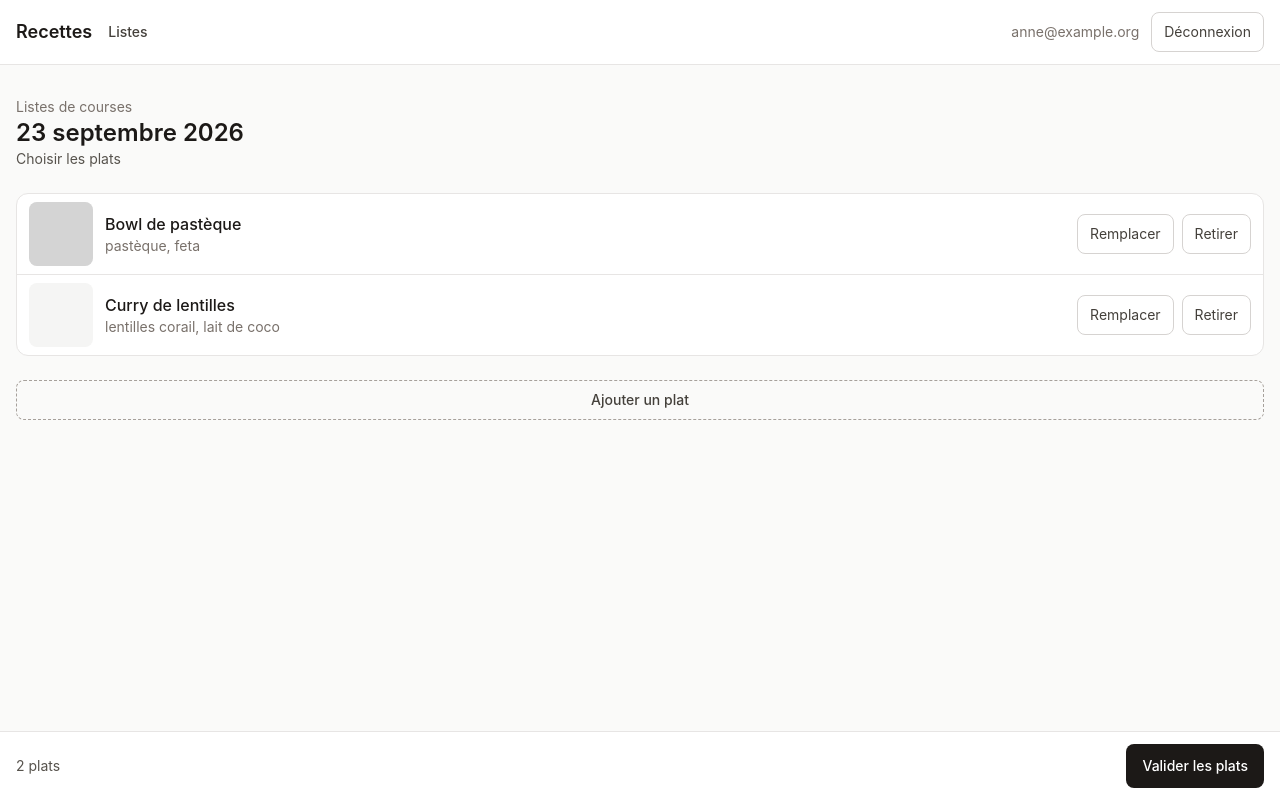
Test: préparation d'une liste › remplace un plat par une proposition choisie dans le drawer
The image size is (1280, 800).
Expected: the text "Curry de lentilles" is shown, [105,295,235,315]
Click the button with aria-label "Remplacer Curry de lentilles". click: (1125, 315)
box: [1077,295,1174,335]
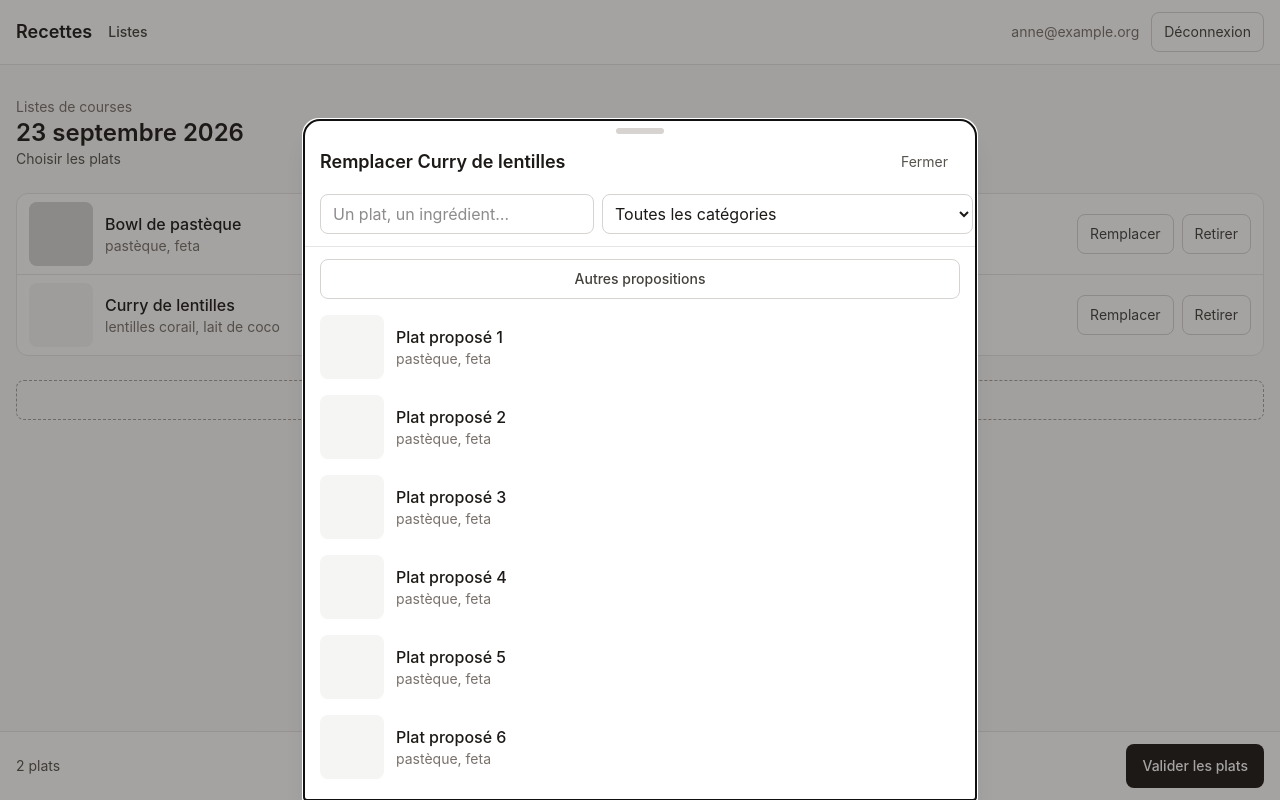
Now the heading "Remplacer Curry de lentilles" is shown, box [320,148,565,176]
Click the button "Plat proposé 1 pastèque, feta". click: (352, 347)
box: [320,307,960,387]
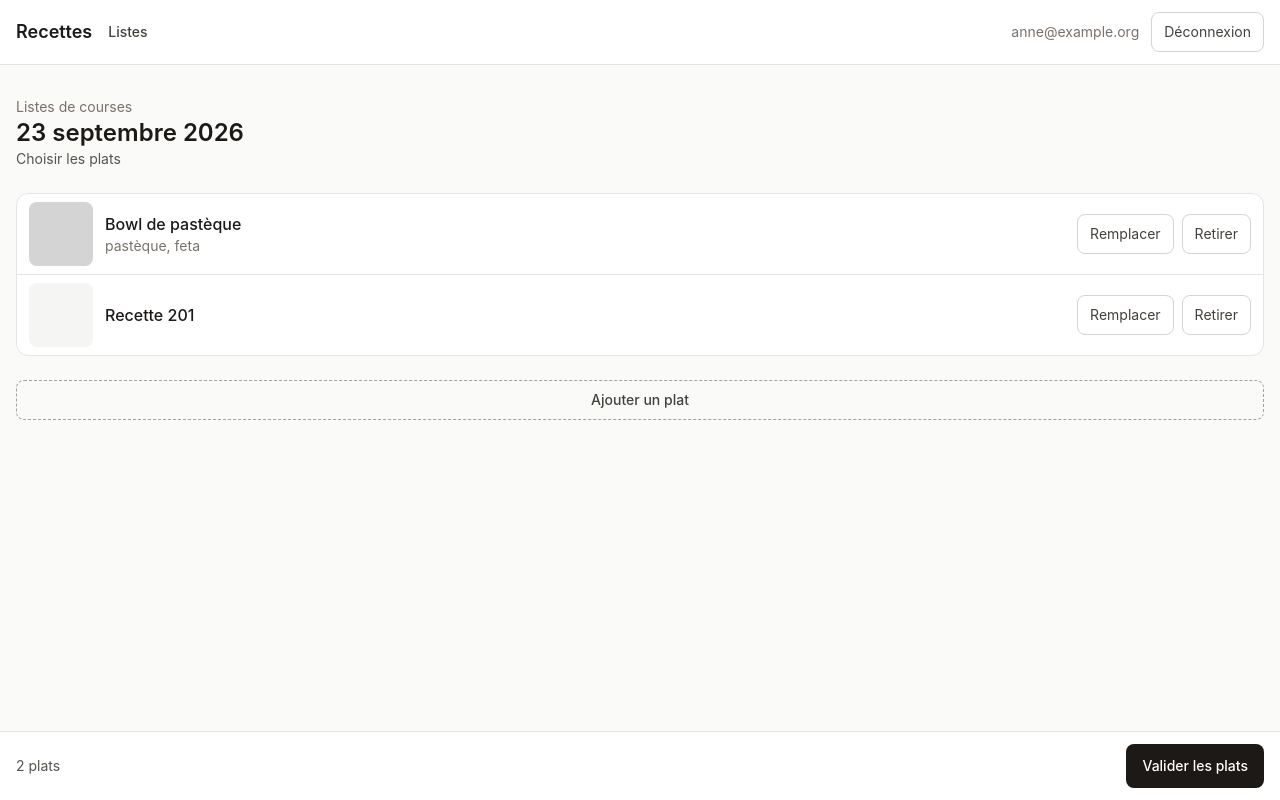
Now the text "Recette 201" is shown, box [105,303,194,327]
Now the link "Curry de lentilles" is gone
